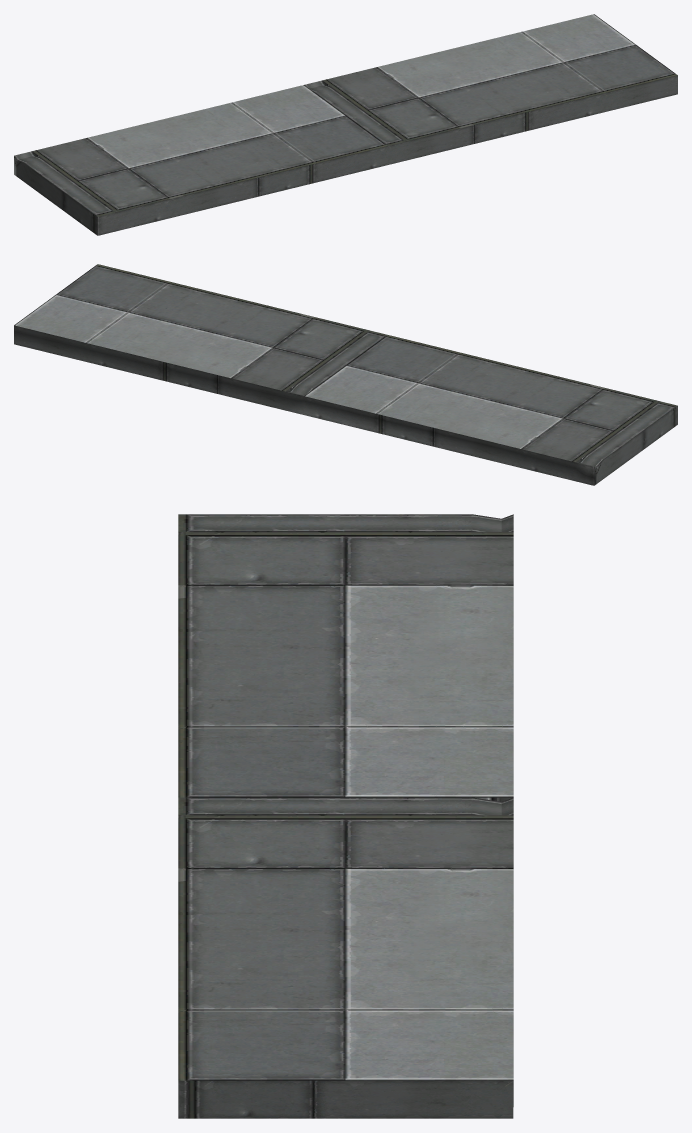
File: Neon_Floor_Lrg_8x2_02.FBX
3 views of the same model, one above another, from view 1: azimuth 30°, elevation 25°; view 2: azimuth 150°, elevation 25°; view 3: azimuth 270°, elevation 25° (orthographic). The views are drawn at different scales.
Parts seen in each view (by area): view 1: Neon_Floor_Lrg_8x2_02; view 2: Neon_Floor_Lrg_8x2_02; view 3: Neon_Floor_Lrg_8x2_02.
Boxes of the visible parts, x1,y1,x2,y2 form: Neon_Floor_Lrg_8x2_02: (14,14,677,235); Neon_Floor_Lrg_8x2_02: (14,264,677,485); Neon_Floor_Lrg_8x2_02: (178,514,513,1118).
Bounding box in the file's own units: 8 × 0.2499 × 2.
